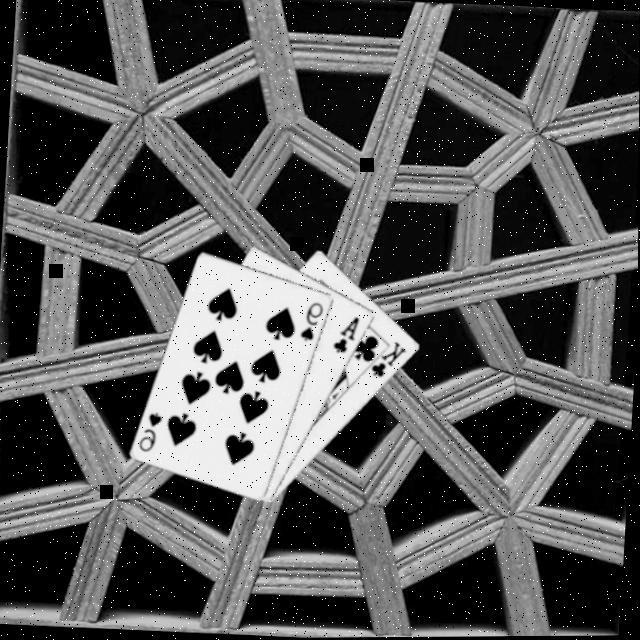9S: (138, 407, 168, 454), (299, 298, 328, 345)
AC: (332, 311, 365, 356)
KC: (363, 336, 412, 381)
